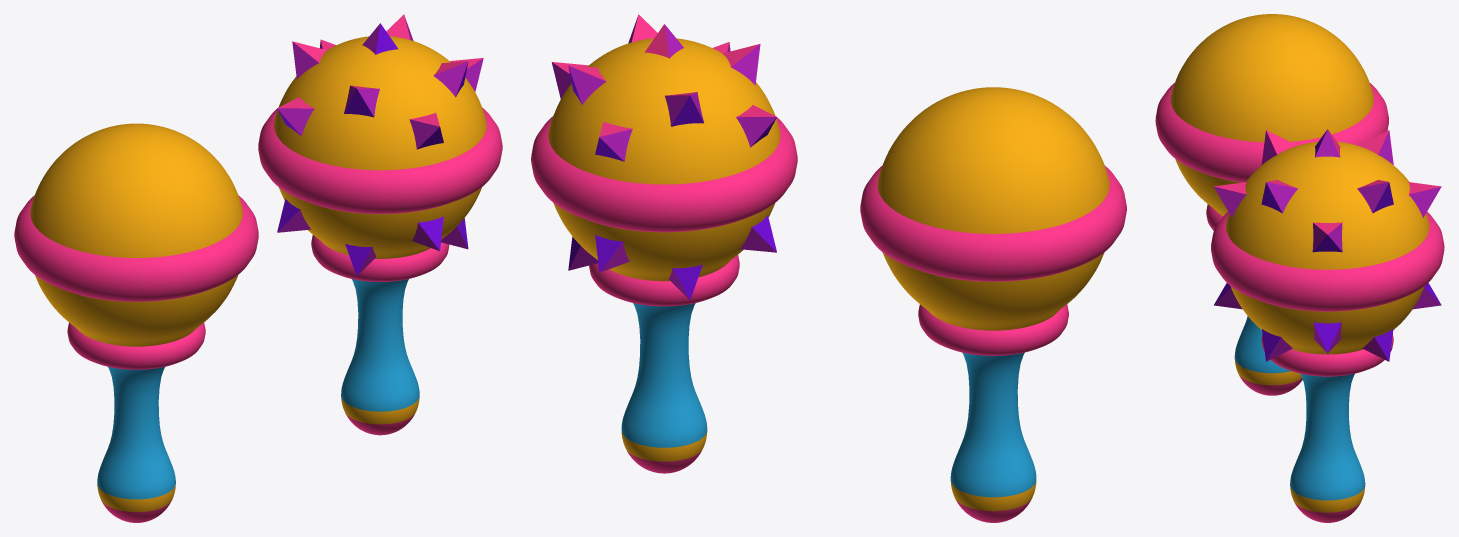
The model's file is RattleToy.fbx.
3 renders of one model, left to right at view 1: azimuth 30°, elevation 25°; view 2: azimuth 150°, elevation 25°; view 3: azimuth 270°, elevation 25°, orthographic. The views are drawn at different scales.
Visible parts, largest first — view 1: 6, 6.001, Circle.002; view 2: 6, 6.001, Circle.002; view 3: 6.001, 6, Circle.002.
Boxes of the visible parts, box(x1,y1,x2,y2) form: 6: box(14, 123, 258, 522); 6.001: box(258, 36, 502, 435); Circle.002: box(277, 14, 483, 276); 6: box(860, 87, 1126, 522); 6.001: box(531, 38, 797, 473); Circle.002: box(551, 14, 776, 300); 6.001: box(1211, 141, 1444, 522); 6: box(1155, 14, 1388, 395); Circle.002: box(1213, 129, 1441, 361).
Bounding box in the file's own units: 2.02 × 1.63 × 1.09.
